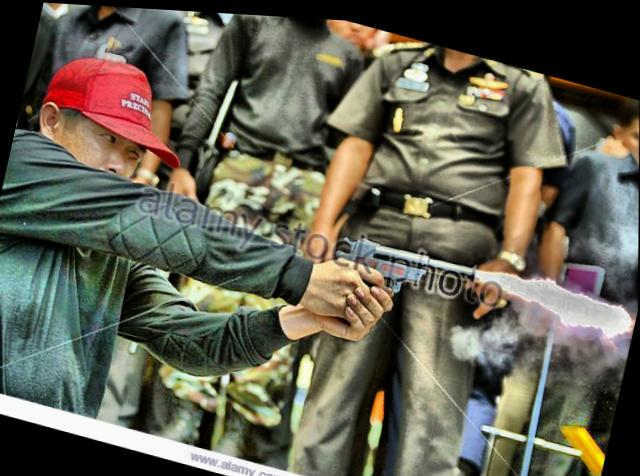pistol: (319, 219, 489, 358)
